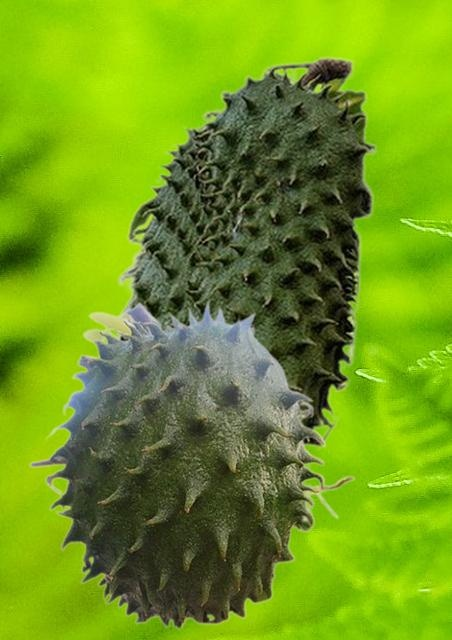guyabano: (28, 298, 355, 630), (114, 55, 376, 468)
